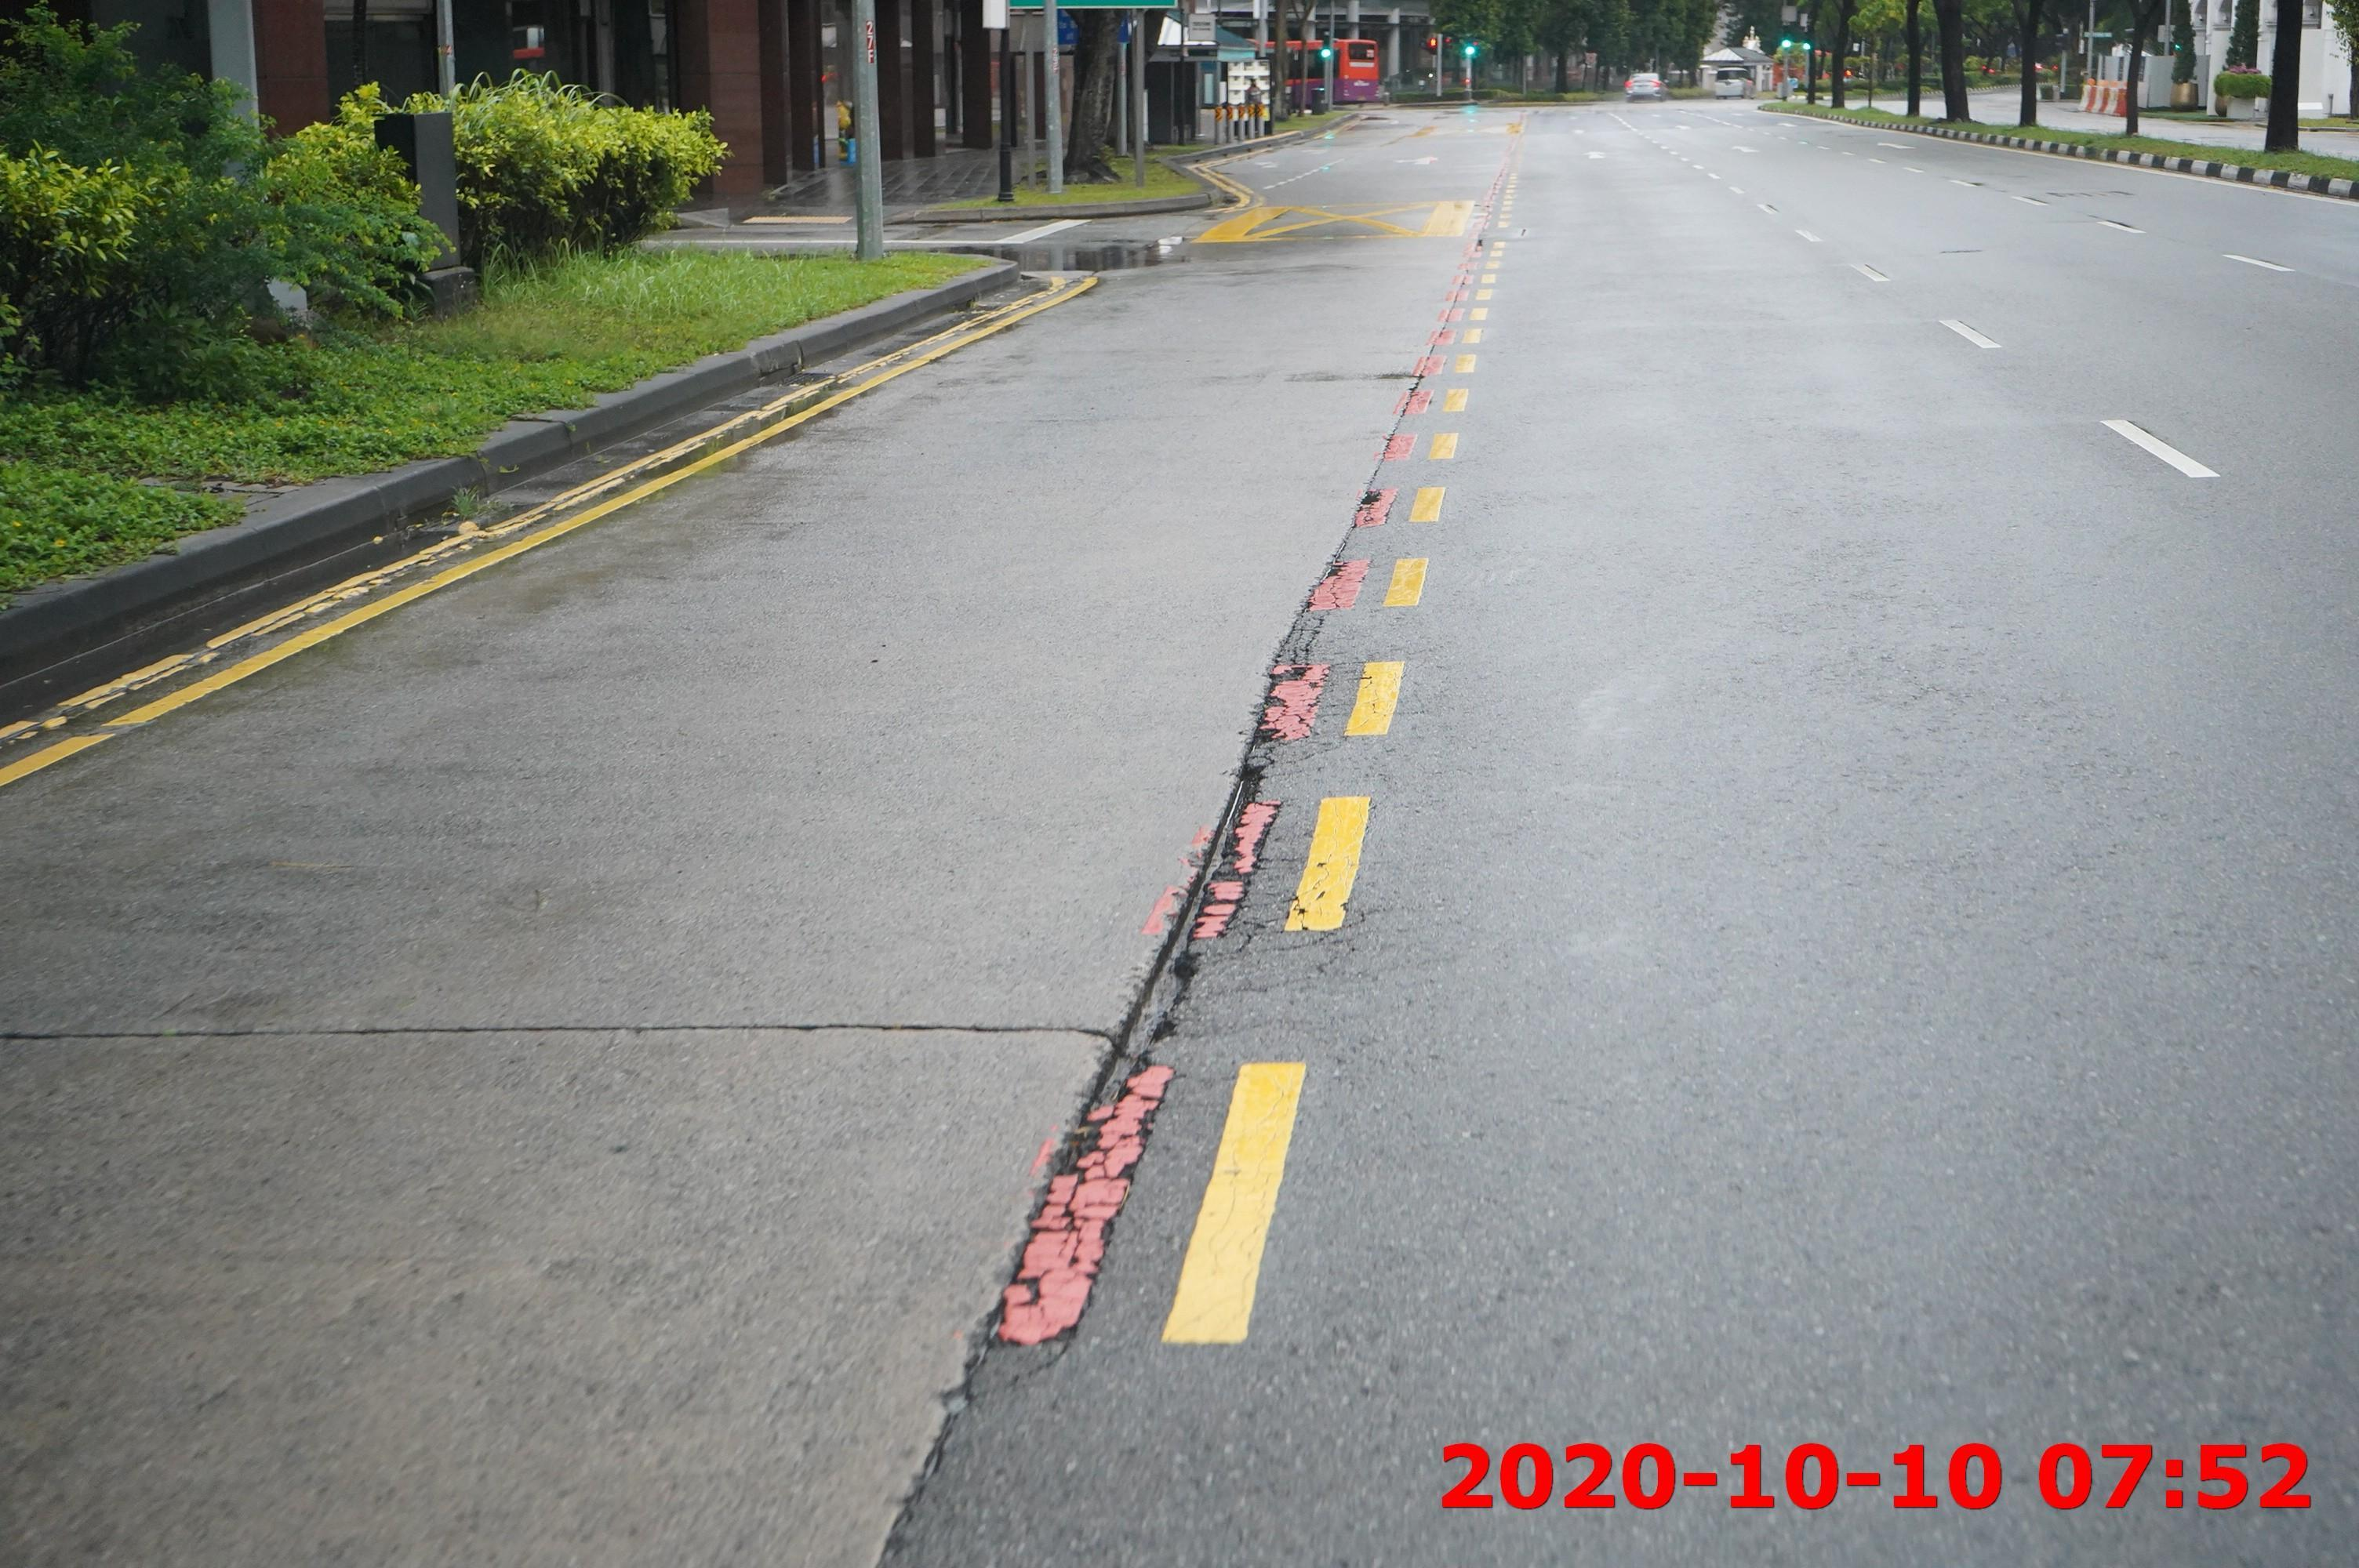multi crack: (966, 651, 1311, 1402)
